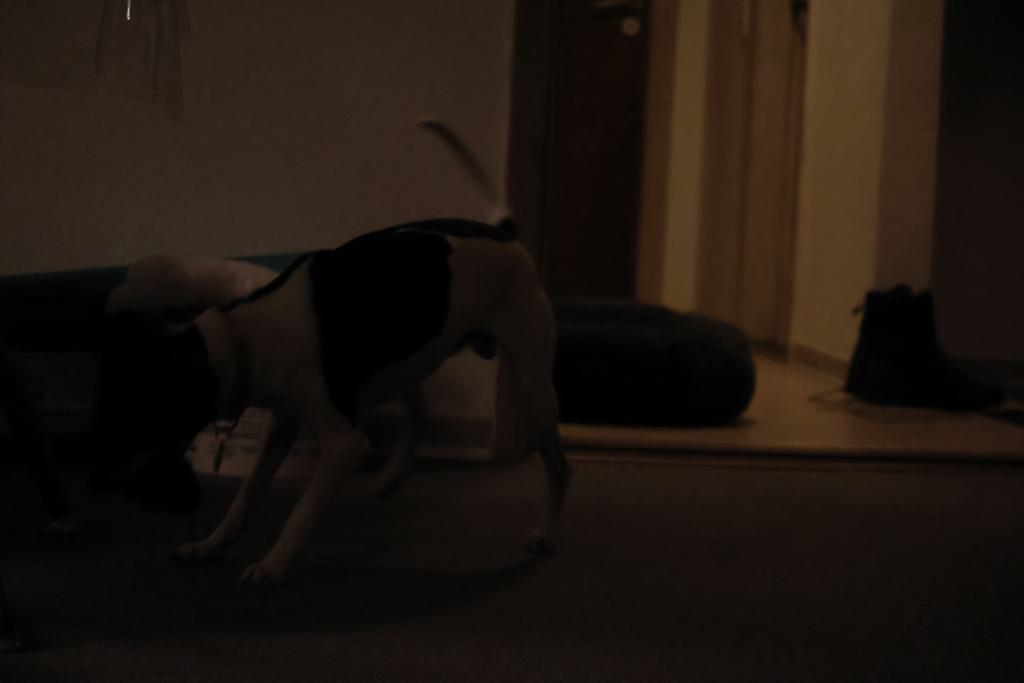Dog: (44, 108, 587, 603)
